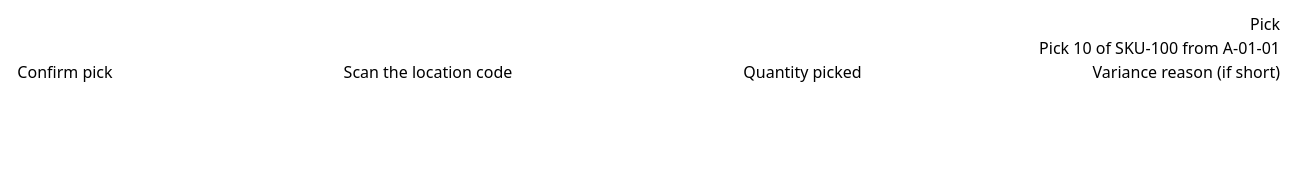
Test: Scenario: A server refusal on a pick plays the error sound + vibration and states the next action › refusal lineNotFound -> alert pick.refused.lineNotFound, error signal once, no key, nothing enqueued
Type "A-01-01" into the field labelled "Scan the location code" at (628, 72), box [512, 60, 743, 84]
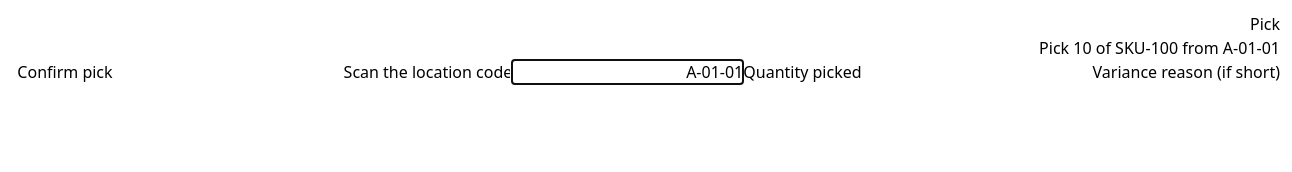
Type "10" into the field labelled "Quantity picked" at (977, 72), box [862, 60, 1093, 84]
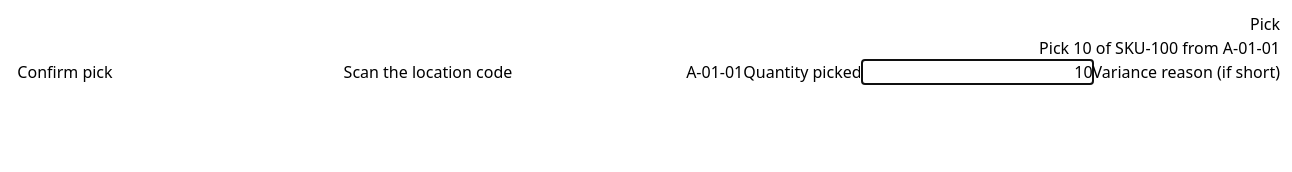
Click the button "Confirm pick" at (65, 72), box [17, 60, 113, 84]
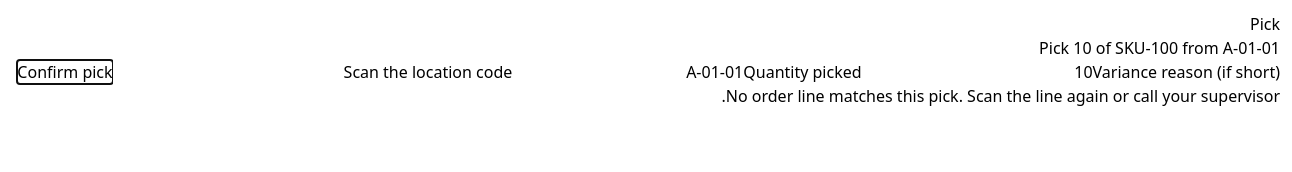
Check: the message reads "No order line matches this pick. Scan the line again or call your supervisor.", box [722, 85, 1280, 107]
